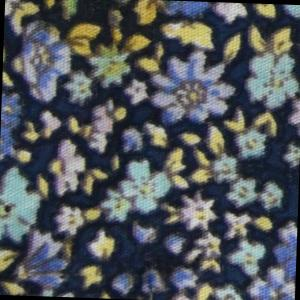Oil Stain: (11, 1, 169, 67)
